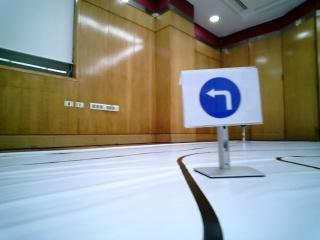left: (188, 74, 258, 123)
